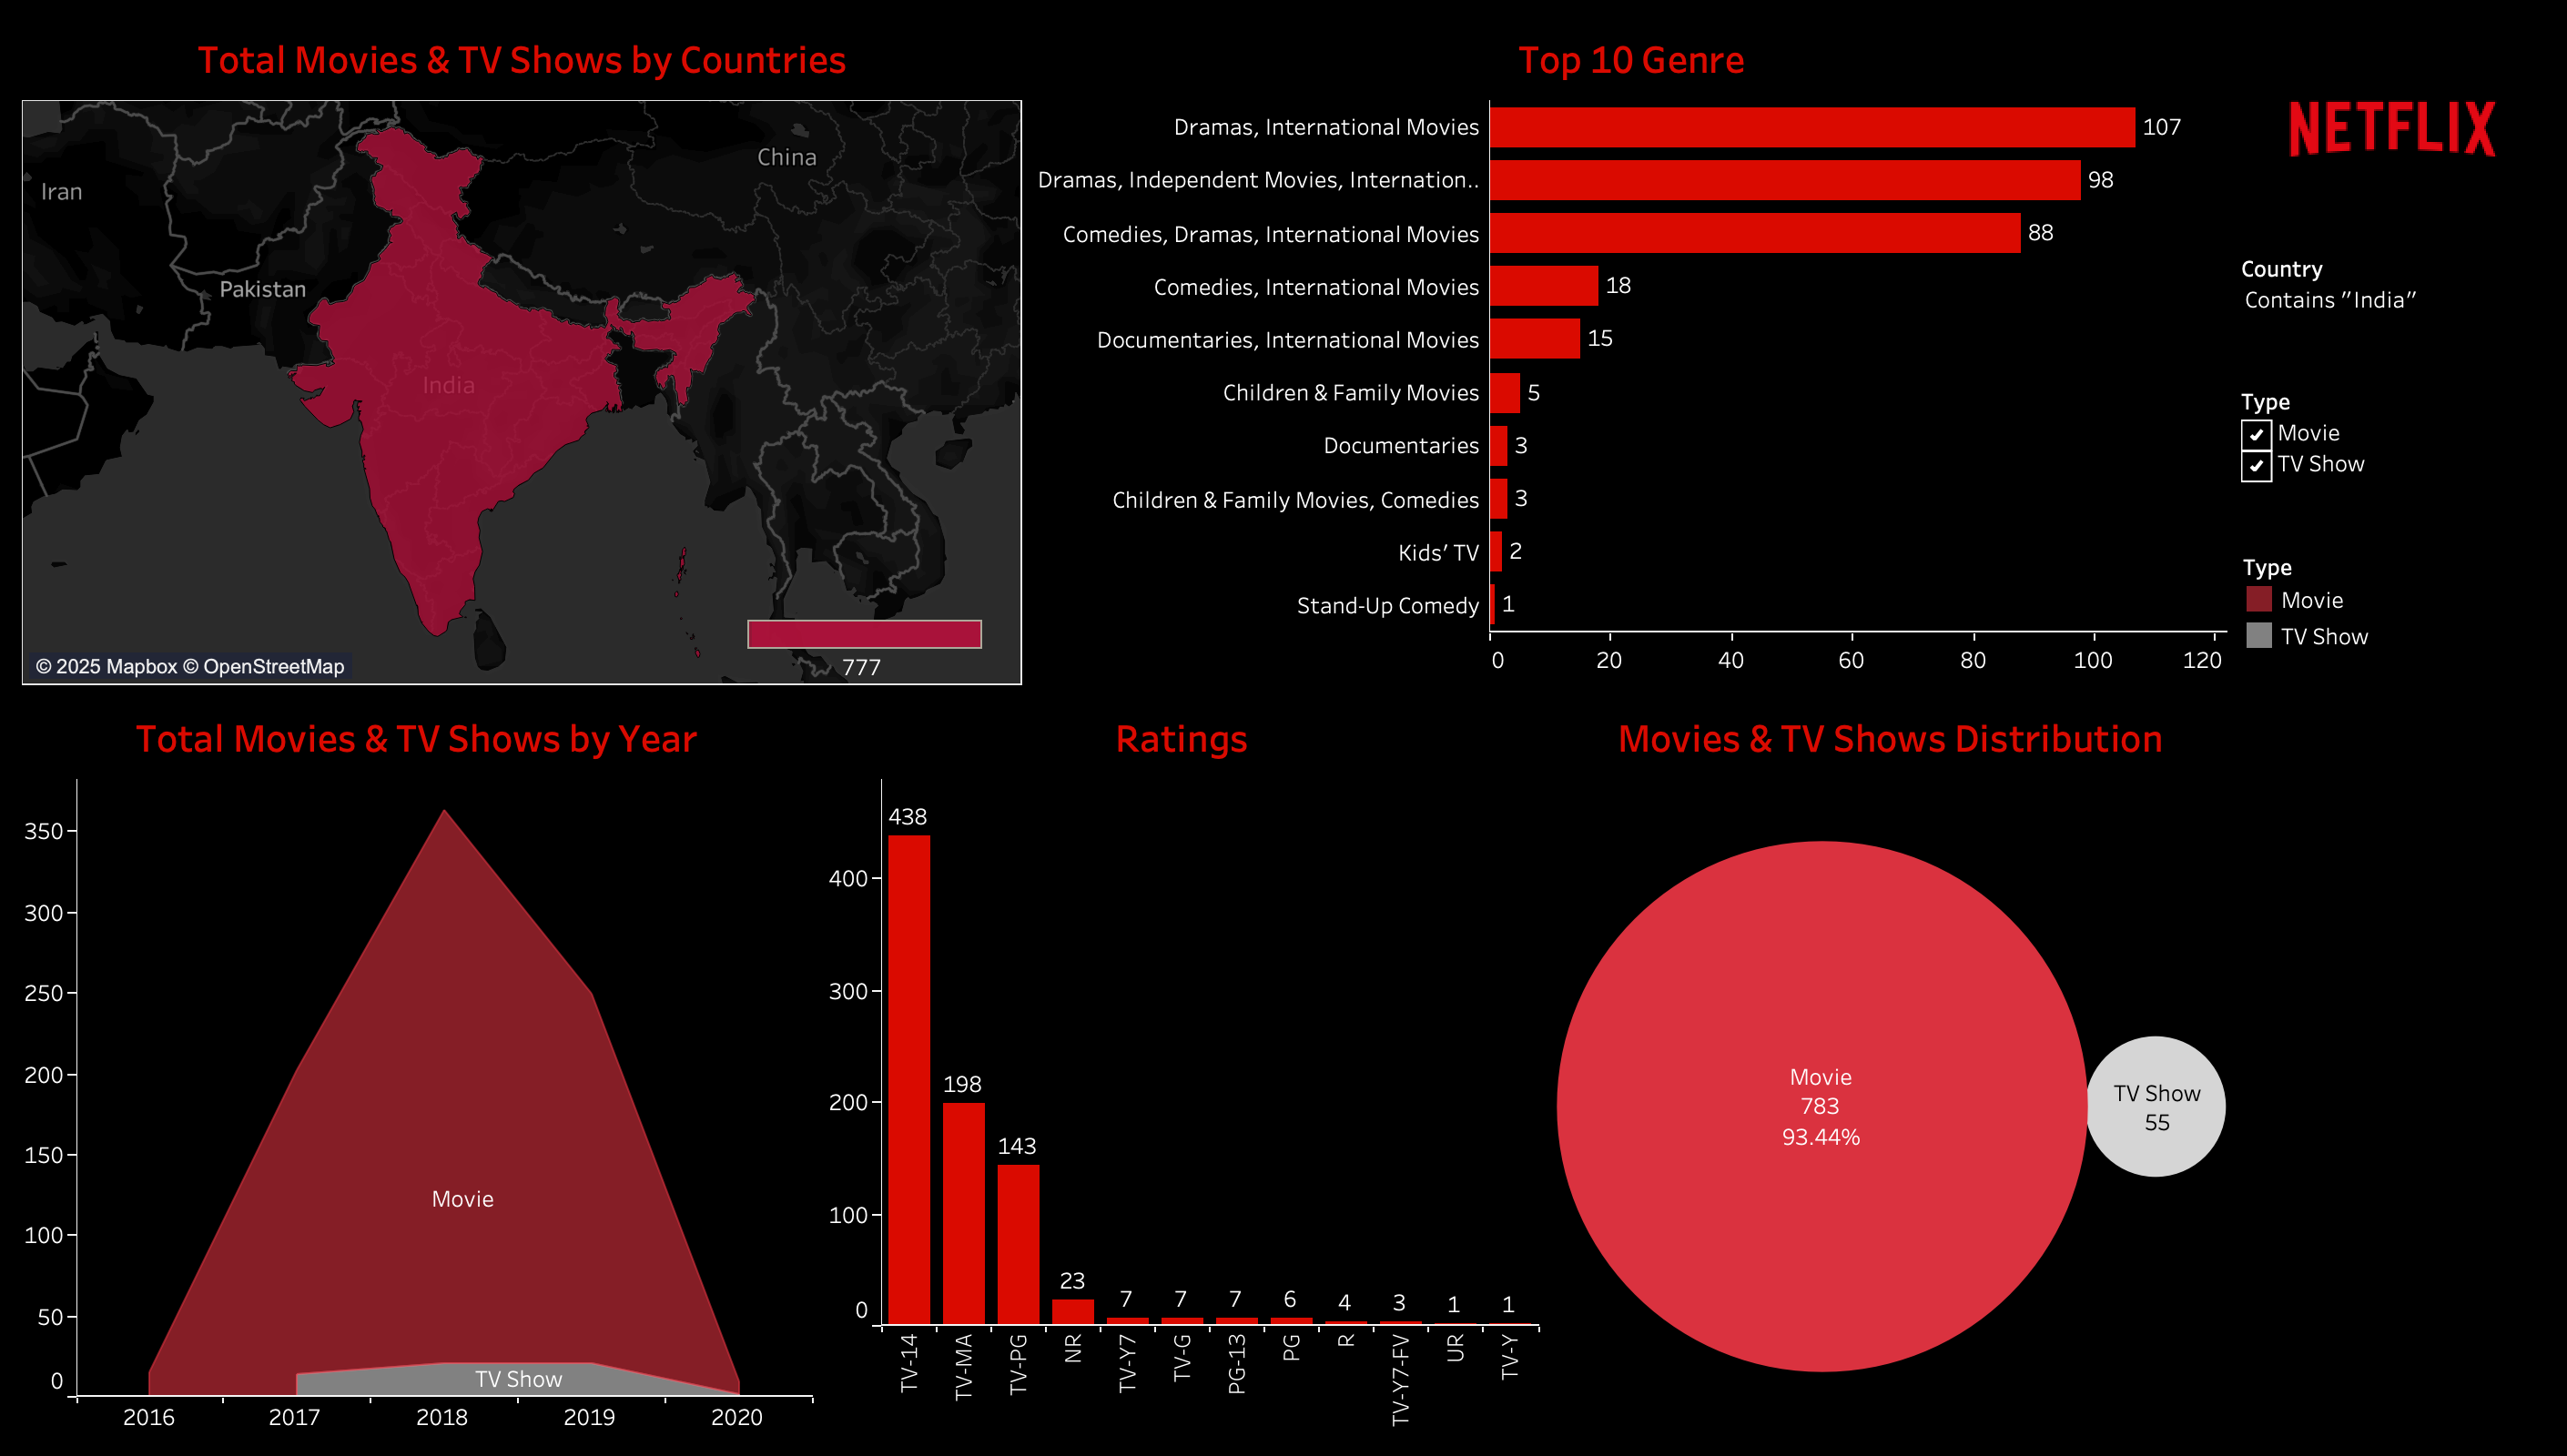

This screenshot's page, from the dashboard's own definition file:
{"tool":"tableau","page":{"name":"Netflix","canvas":[1410,800],"ordinal":0},"visuals":[{"type":"worksheet","title":"Total Movies & TV Shows by Countries","mark":"Multipolygon","box":[8,8,558.3,373]},{"type":"worksheet","title":"Top 10 Genre","mark":"Automatic","rows":["listed_in"],"cols":["show_id"],"box":[566.3,8,660.7,373]},{"type":"image","param":"/Users/siya/Downloads/Netflix Dashboard/Netflix logo.png","box":[1227,8,175,126]},{"type":"filter","title":"Total Movies & TV Shows by Year","param":"[federated.1kptx0v0jbjw831bnegm413axtkj].[none:country:nk]","box":[1227,134,175,73]},{"type":"filter","title":"Total Movies & TV Shows by Year","param":"[federated.1kptx0v0jbjw831bnegm413axtkj].[none:type:nk]","box":[1227,207,175,90]},{"type":"legend","title":"Total Movies & TV Shows by Year","param":"[federated.1kptx0v0jbjw831bnegm413axtkj].[none:type:nk]","box":[1227,297,175,82]},{"type":"legend","title":"Total Movies & TV Shows by Countries","param":"[federated.1kptx0v0jbjw831bnegm413axtkj].[ctd:show_id:qk]","box":[407,337,137,34]},{"type":"worksheet","title":"Total Movies & TV Shows by Year","mark":"Area","rows":["show_id"],"cols":["date_added"],"box":[8,381,442.4,411]},{"type":"worksheet","title":"Ratings","mark":"Automatic","rows":["show_id"],"cols":["rating"],"box":[450.4,381,399.3,411]},{"type":"worksheet","title":"Movies & TV Shows Distribution","mark":"Circle","box":[849.7,381,377.3,411]}]}

Visuals, with their boxes in screenshot pixels (x1, y1, x2, y2), scaled from the page's 1410x800 canvas onto the 2567x1456 screenshot:
"Total Movies & TV Shows by Countries" worksheet (Multipolygon marks): 15, 15, 1031, 693
"Top 10 Genre" worksheet: 1031, 15, 2234, 693
image: 2234, 15, 2552, 244
"Total Movies & TV Shows by Year" filter: 2234, 244, 2552, 377
"Total Movies & TV Shows by Year" filter: 2234, 377, 2552, 541
"Total Movies & TV Shows by Year" legend: 2234, 541, 2552, 690
"Total Movies & TV Shows by Countries" legend: 741, 613, 990, 675
"Total Movies & TV Shows by Year" worksheet (Area marks): 15, 693, 820, 1441
"Ratings" worksheet: 820, 693, 1547, 1441
"Movies & TV Shows Distribution" worksheet (Circle marks): 1547, 693, 2234, 1441
